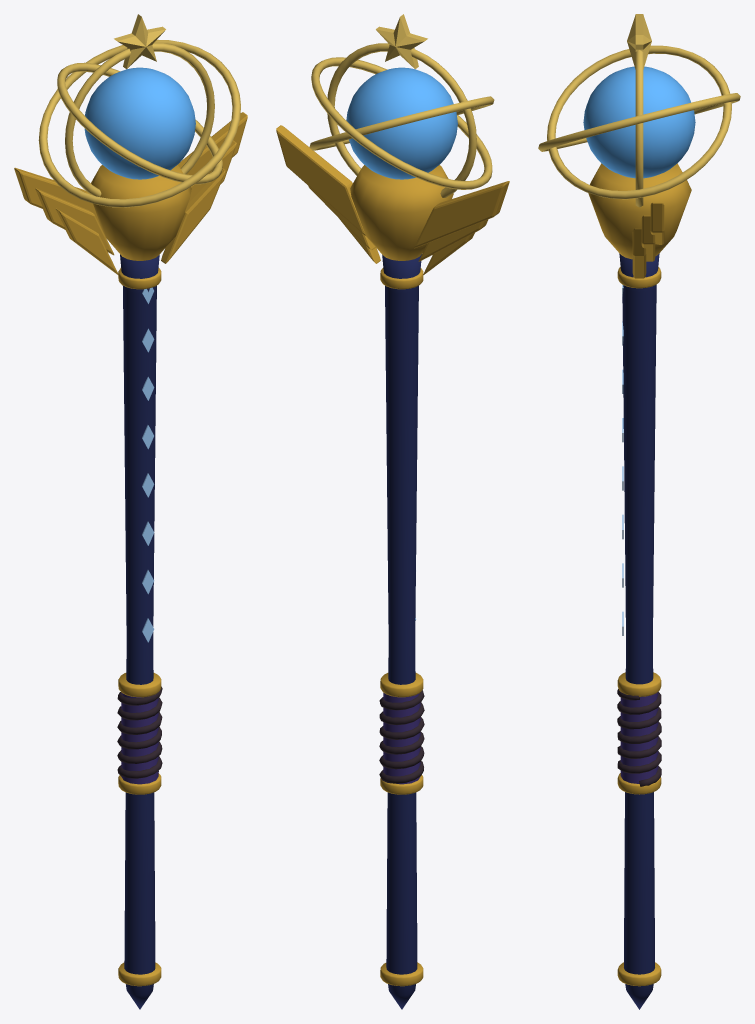
File: staff_arcanum.fbx
3 renders of one model, left to right at view 1: azimuth 30°, elevation 25°; view 2: azimuth 150°, elevation 25°; view 3: azimuth 270°, elevation 25°, orthographic.
Visible parts, largest first — view 1: staff_arcanum; view 2: staff_arcanum; view 3: staff_arcanum.
Boxes of the visible parts, x1,y1,x2,y2 form: staff_arcanum: (14, 14, 247, 1009); staff_arcanum: (276, 14, 509, 1009); staff_arcanum: (538, 14, 740, 1009).
Bounding box in the file's own units: 0.3542 × 1.47 × 0.2711.
